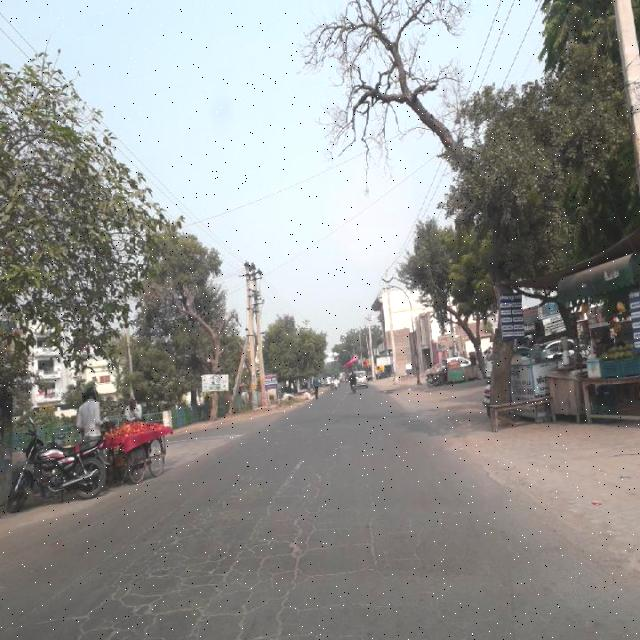D20: (49, 477, 388, 639)
D44: (276, 454, 308, 501)
